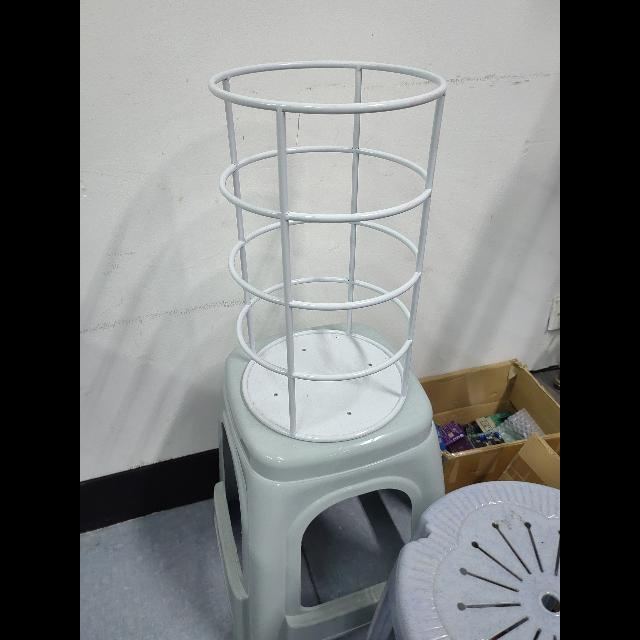S: (204, 58, 451, 446)
